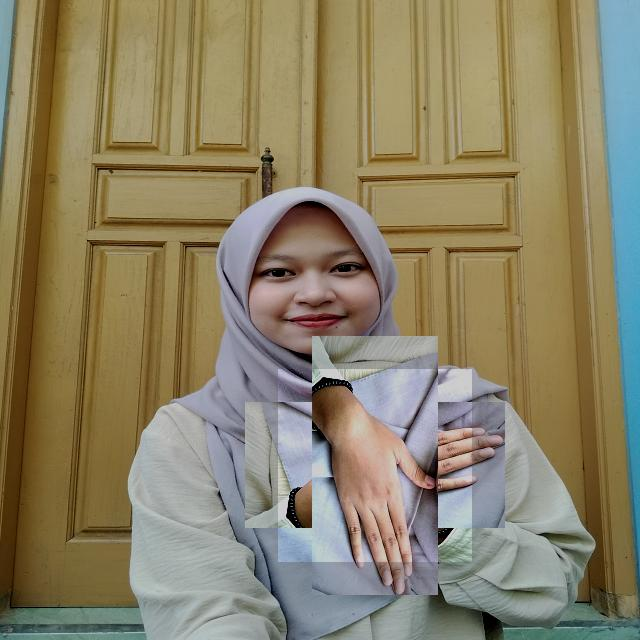tolong: (278, 369, 472, 562)
